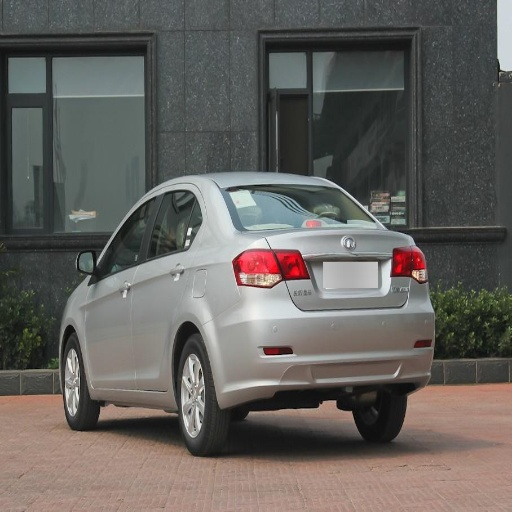back_bumper: (207, 277, 434, 403)
back_glass: (220, 184, 368, 228)
back_left_door: (134, 186, 203, 390)
tailgate: (257, 218, 401, 307)
